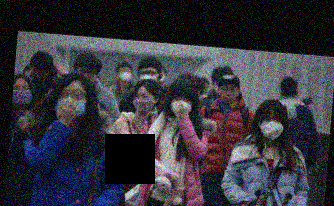with_mask: (52, 85, 87, 120), (257, 112, 286, 141), (167, 94, 195, 118), (132, 91, 157, 112), (13, 83, 34, 106), (28, 68, 49, 91), (137, 68, 160, 83), (117, 68, 133, 83)
without_mask: (217, 83, 240, 103), (74, 66, 98, 85)
